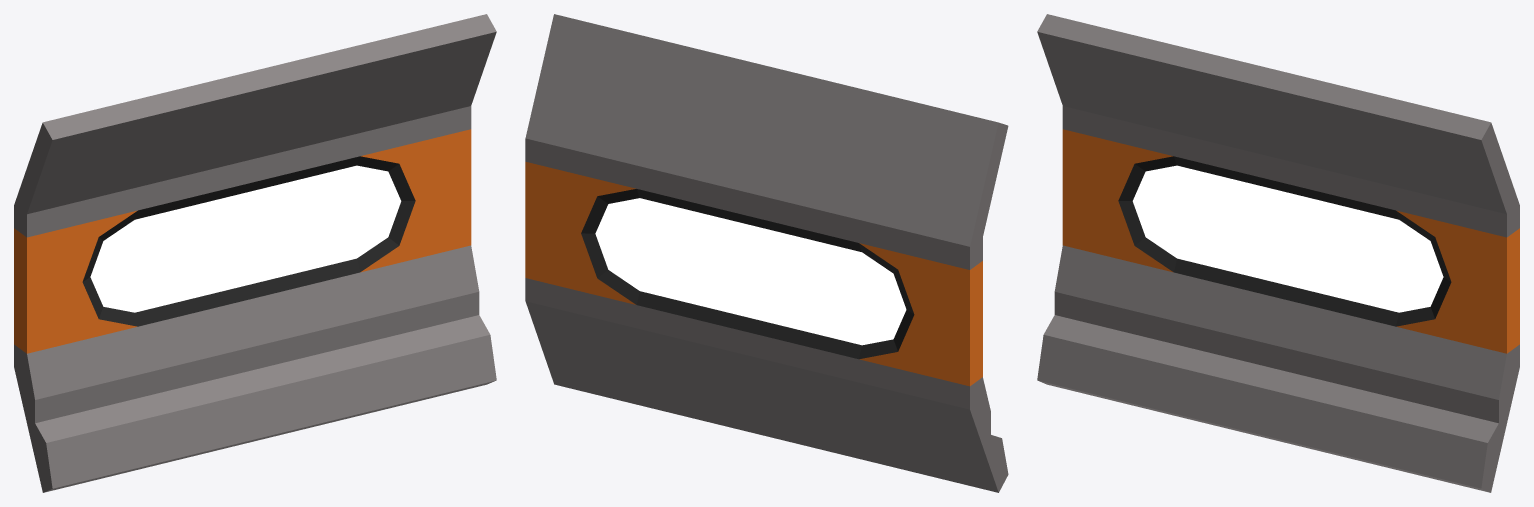
The model's file is scifi-scifi-window-corridor-stripe.glb.
3 renders of one model, left to right at view 1: azimuth 30°, elevation 25°; view 2: azimuth 150°, elevation 25°; view 3: azimuth 330°, elevation 25°, orthographic.
Visible parts, largest first — view 1: scifi-window-corridor-stripe; view 2: scifi-window-corridor-stripe; view 3: scifi-window-corridor-stripe.
Boxes of the visible parts, x1=… form: scifi-window-corridor-stripe: x1=14, y1=14, x2=496, y2=492; scifi-window-corridor-stripe: x1=525, y1=14, x2=1008, y2=492; scifi-window-corridor-stripe: x1=1037, y1=14, x2=1519, y2=492.
Bounding box in the file's own units: 4 × 3.19 × 0.6.
